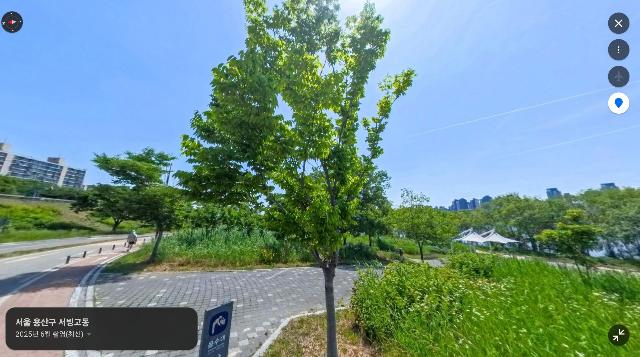other: (173, 0, 418, 357), (68, 181, 194, 265), (90, 146, 180, 232), (534, 207, 613, 288), (386, 187, 453, 264), (342, 169, 393, 249)
